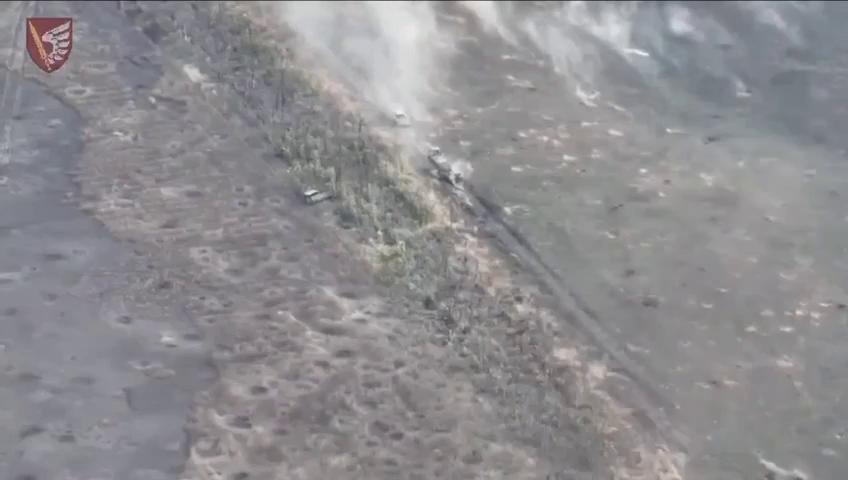tank: (431, 162, 462, 186), (419, 139, 441, 162), (389, 108, 411, 127)
